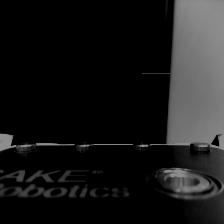Lock: (147, 68, 166, 88)
